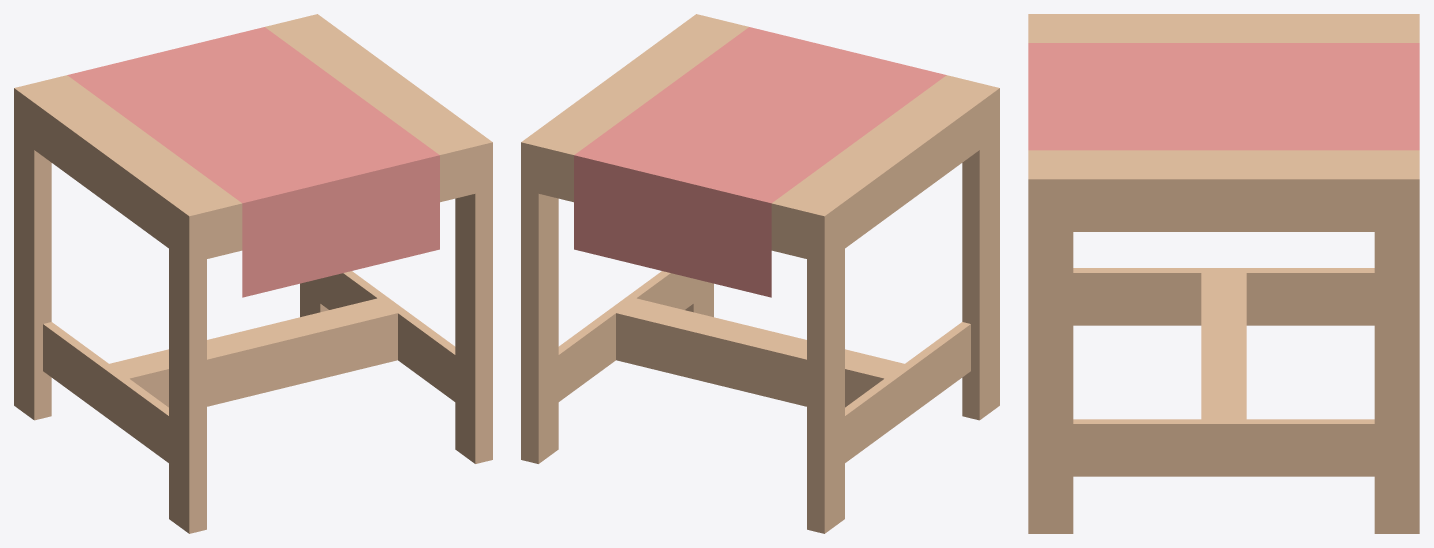
Rendered from kn-table-cloth.glb.
The picture shows the model from 3 angles, left to right: view 1: azimuth 30°, elevation 25°; view 2: azimuth 150°, elevation 25°; view 3: azimuth 270°, elevation 25°; orthographic projection. The views are drawn at different scales.
Visible parts, largest first — view 1: tableCloth(Clone); view 2: tableCloth(Clone); view 3: tableCloth(Clone).
Boxes of the visible parts, left/top/right/bottom form: tableCloth(Clone): left=14, top=14, right=492, bottom=533; tableCloth(Clone): left=521, top=14, right=999, bottom=533; tableCloth(Clone): left=1028, top=14, right=1419, bottom=533.
Bounding box in the file's own units: 1 × 1 × 1.
